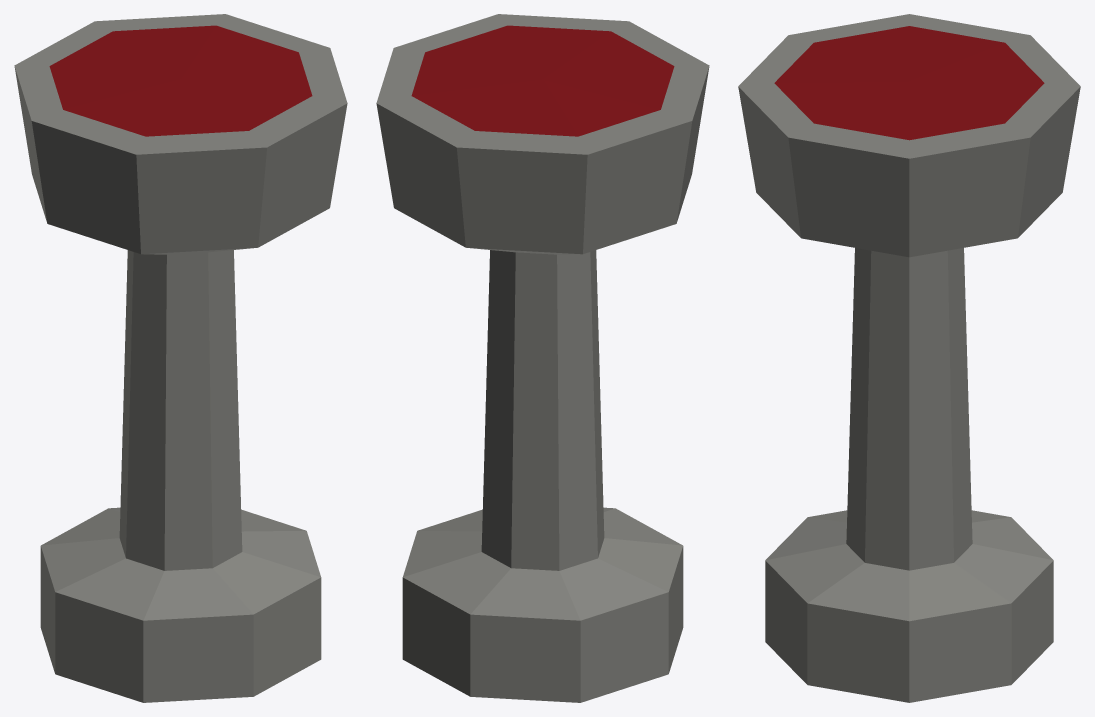
File: Font.fbx
3 views of the same model, side by side, from view 1: azimuth 30°, elevation 25°; view 2: azimuth 150°, elevation 25°; view 3: azimuth 270°, elevation 25° (orthographic).
Parts seen in each view (by area): view 1: Kit_Font; view 2: Kit_Font; view 3: Kit_Font.
Part boxes in pixels (x1,y1,x2,y2): Kit_Font: (14,14,347,702); Kit_Font: (376,14,709,702); Kit_Font: (738,14,1080,702).
Bounding box in the file's own units: 0.38 × 0.686 × 0.38.
